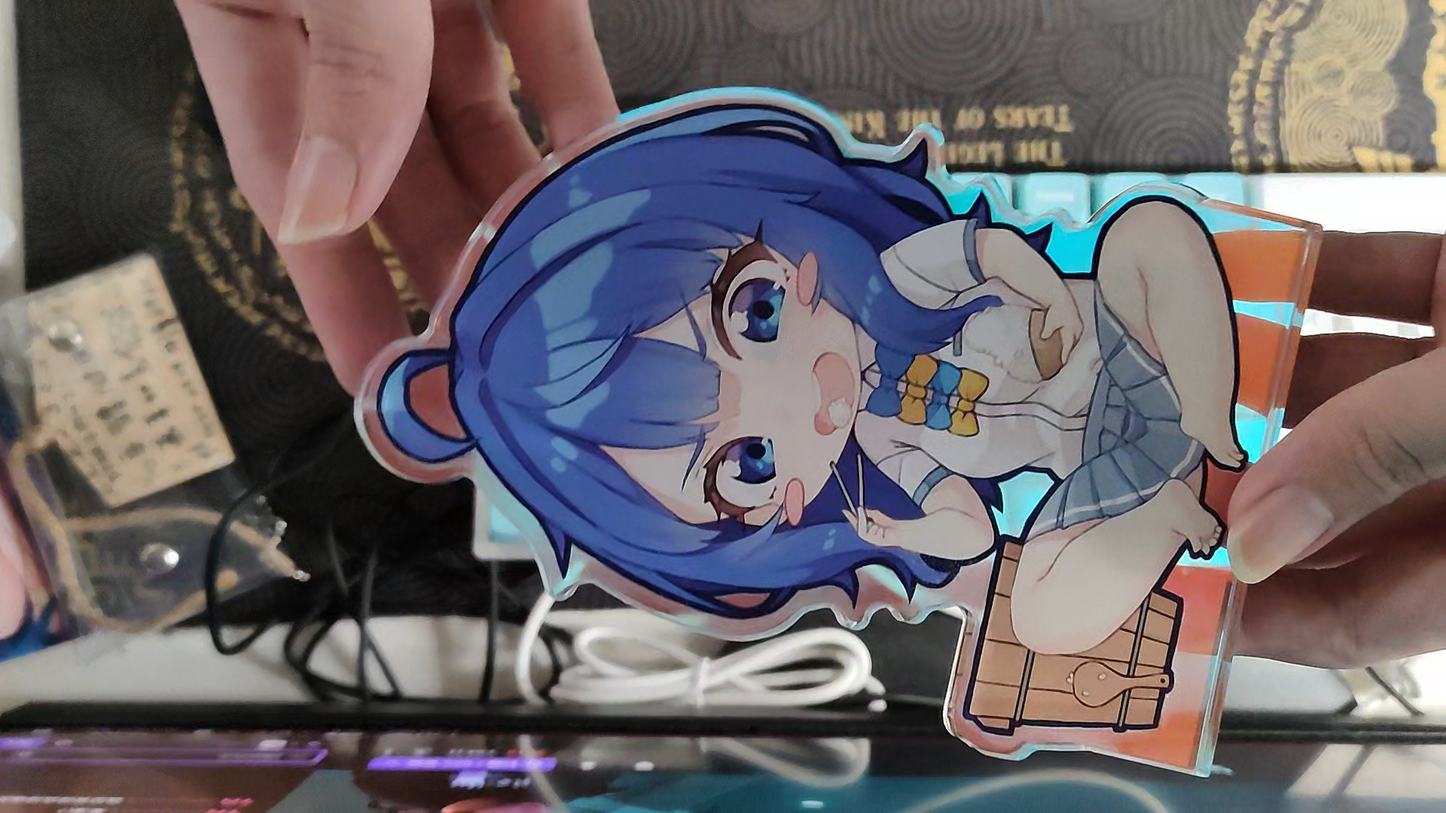Yanami-anna: (352, 85, 1323, 775)
